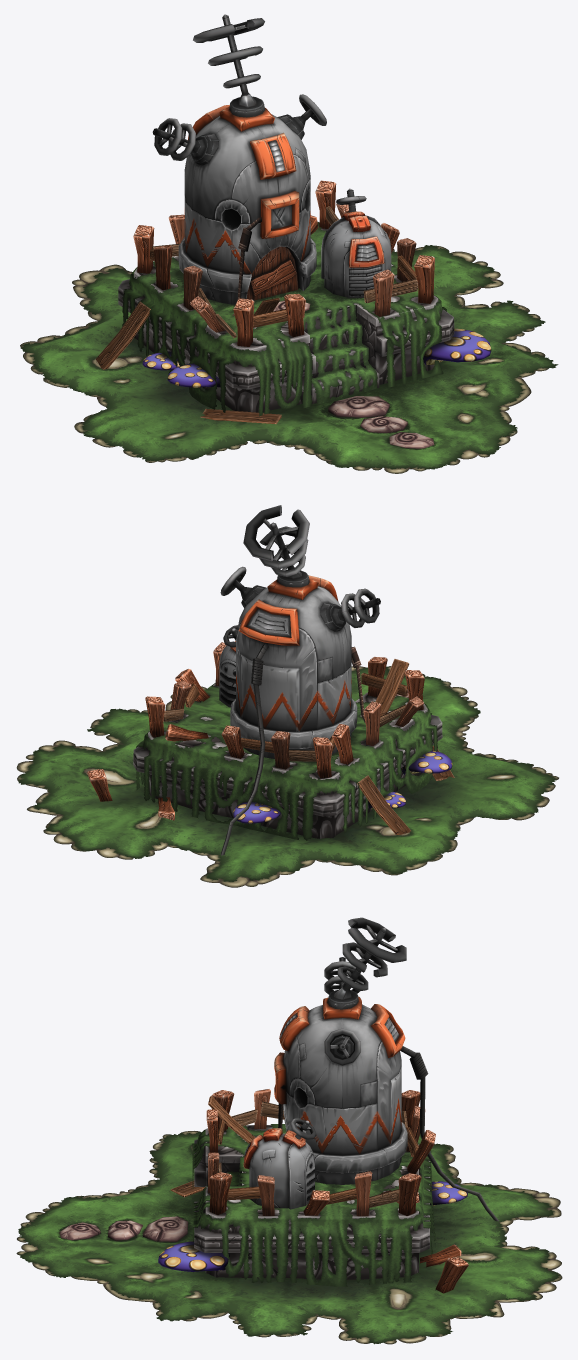
The model's file is maison_other_break.fbx.
3 renders of one model, top to bottom at view 1: azimuth 30°, elevation 25°; view 2: azimuth 150°, elevation 25°; view 3: azimuth 270°, elevation 25°, orthographic. The views are drawn at different scales.
Parts seen in each view (by area): view 1: green_break, maisonbig_break, socle_break, barrier_break, maisonsmall_break, champ_break, planche_break; view 2: green_break, maisonbig_break, barrier_break, socle_break, planche_break, champ_break, maisonsmall_break; view 3: green_break, maisonbig_break, barrier_break, socle_break, maisonsmall_break, champ_break, planche_break.
Part boxes in pixels (left/top/right/bottom): green_break: left=20, top=221, right=558, bottom=473; maisonbig_break: left=152, top=14, right=326, bottom=315; socle_break: left=118, top=222, right=454, bottom=448; barrier_break: left=133, top=180, right=434, bottom=346; maisonsmall_break: left=321, top=188, right=391, bottom=297; champ_break: left=142, top=328, right=491, bottom=387; planche_break: left=96, top=297, right=281, bottom=423; green_break: left=16, top=666, right=558, bottom=887; maisonbig_break: left=220, top=505, right=380, bottom=855; barrier_break: left=87, top=642, right=424, bottom=820; socle_break: left=133, top=683, right=442, bottom=838; planche_break: left=357, top=659, right=454, bottom=834; champ_break: left=233, top=750, right=452, bottom=823; maisonsmall_break: left=219, top=625, right=238, bottom=707; green_break: left=16, top=1124, right=562, bottom=1344; maisonbig_break: left=274, top=917, right=498, bottom=1221; barrier_break: left=206, top=1089, right=468, bottom=1293; socle_break: left=59, top=1125, right=429, bottom=1279; maisonsmall_break: left=243, top=1118, right=316, bottom=1209; champ_break: left=158, top=1181, right=467, bottom=1271; planche_break: left=170, top=1095, right=255, bottom=1197.
Size of the model in its own units: 162 by 103 by 169.
